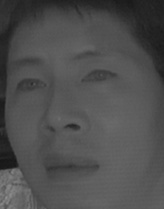eye: (78, 67, 121, 87), (12, 75, 51, 97)
mouth: (40, 147, 101, 186)
